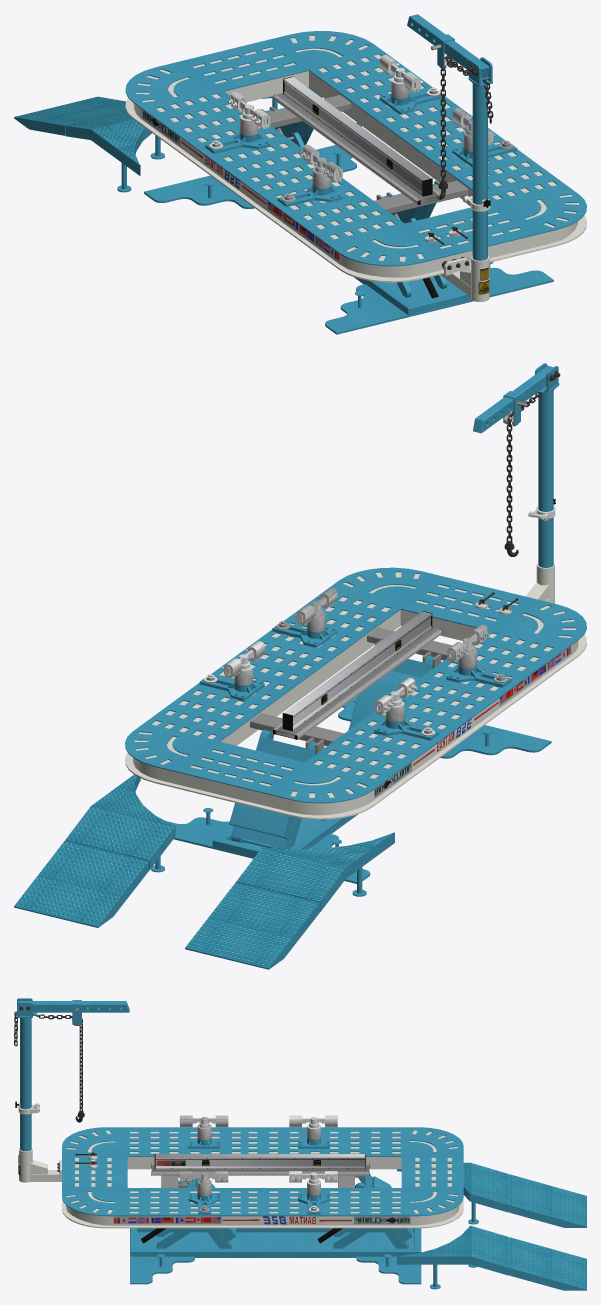
Rendered from daliangxiaozhengyi.FBX.
The picture shows the model from 3 angles, top to bottom: view 1: azimuth 30°, elevation 25°; view 2: azimuth 150°, elevation 25°; view 3: azimuth 270°, elevation 25°; orthographic projection. The views are drawn at different scales.
Parts seen in each view (by area): view 1: Rectangle001, Rectangle02, Line002, Box059, 对象003, Cylinder011, Box07, Box034, Box08, Box036, Box057, Box02 (+8 smaller); view 2: Rectangle001, Rectangle02, 对象003, 对象004, Line002, Box059, Box042, Cylinder011, Box18, Box07, Box08, Box036 (+6 smaller); view 3: Rectangle001, Rectangle02, Line002, 对象004, 对象003, Box08, Box059, Box033, Cylinder011, Box036, Box07, Box034 (+8 smaller).
Part boxes in pixels (left/top/right/bottom): Rectangle001: left=125, top=31, right=586, bottom=266; Rectangle02: left=125, top=35, right=586, bottom=282; Line002: left=144, top=145, right=553, bottom=334; Box059: left=283, top=77, right=431, bottom=195; 对象003: left=15, top=96, right=145, bottom=165; Cylinder011: left=472, top=83, right=487, bottom=260; Box07: left=14, top=111, right=151, bottom=175; Box034: left=440, top=256, right=489, bottom=301; Box08: left=354, top=277, right=471, bottom=315; Box036: left=407, top=14, right=489, bottom=78; Box057: left=273, top=94, right=420, bottom=204; Box02: left=276, top=93, right=439, bottom=204; Rectangle001: left=125, top=567, right=586, bottom=803; Rectangle02: left=125, top=572, right=586, bottom=819; 对象003: left=185, top=832, right=394, bottom=968; 对象004: left=14, top=775, right=175, bottom=926; Line002: left=166, top=695, right=551, bottom=883; Box059: left=284, top=611, right=431, bottom=730; Box042: left=229, top=737, right=313, bottom=848; Cylinder011: left=538, top=390, right=553, bottom=567; Box18: left=348, top=659, right=430, bottom=730; Box07: left=185, top=832, right=394, bottom=969; Box08: left=212, top=814, right=358, bottom=856; Box036: left=473, top=365, right=553, bottom=433; Rectangle001: left=62, top=1127, right=463, bottom=1216; Rectangle02: left=62, top=1130, right=463, bottom=1228; Line002: left=130, top=1228, right=421, bottom=1284; 对象004: left=397, top=1225, right=586, bottom=1289; 对象003: left=463, top=1162, right=586, bottom=1226; Box08: left=130, top=1228, right=421, bottom=1257; Box059: left=155, top=1154, right=365, bottom=1169; Box033: left=397, top=1238, right=586, bottom=1290; Cylinder011: left=20, top=1018, right=31, bottom=1151; Box036: left=17, top=1001, right=129, bottom=1012; Box07: left=397, top=1169, right=586, bottom=1227; Box034: left=19, top=1148, right=61, bottom=1182.
Bounding box in the file's own units: 2763 × 3177 × 7130.
